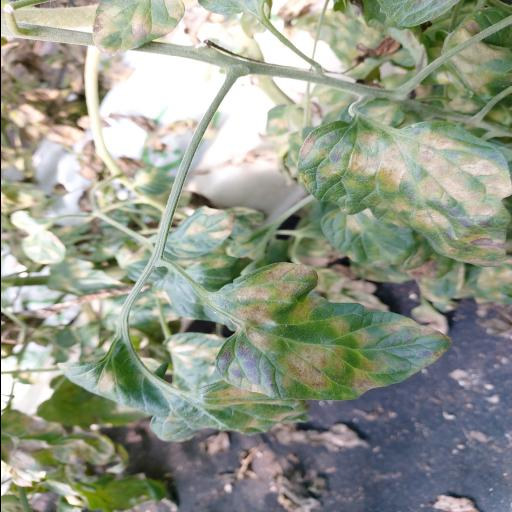Leaf Mold: (214, 262, 452, 400), (296, 120, 512, 268)
